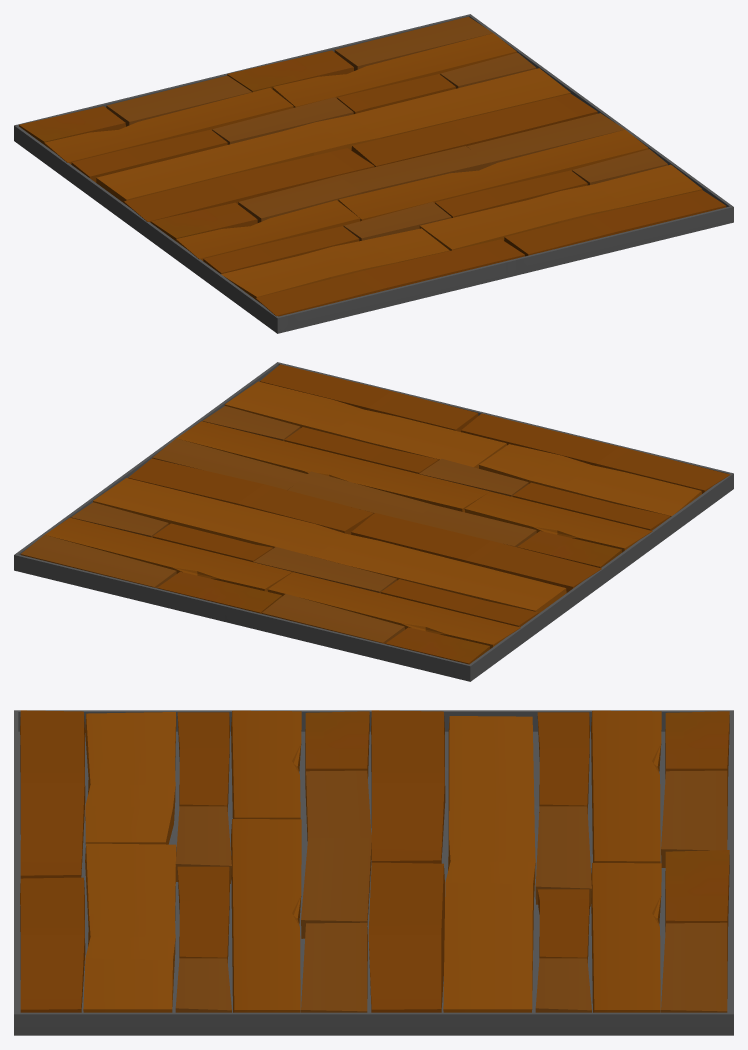
The model's file is Wood Plank Floor 4x4M.glb.
3 renders of one model, top to bottom at view 1: azimuth 30°, elevation 25°; view 2: azimuth 150°, elevation 25°; view 3: azimuth 270°, elevation 25°, orthographic. The views are drawn at different scales.
Visible parts, largest first — view 1: FloorSolid_4x4; view 2: FloorSolid_4x4; view 3: FloorSolid_4x4.
Part boxes in pixels (x1,y1,x2,y2): FloorSolid_4x4: [14, 14, 733, 333]; FloorSolid_4x4: [14, 362, 733, 681]; FloorSolid_4x4: [14, 710, 733, 1035].
Size of what is drawn, in the model's own units: 4 by 0.1431 by 4.
1 material, 1 textured.
